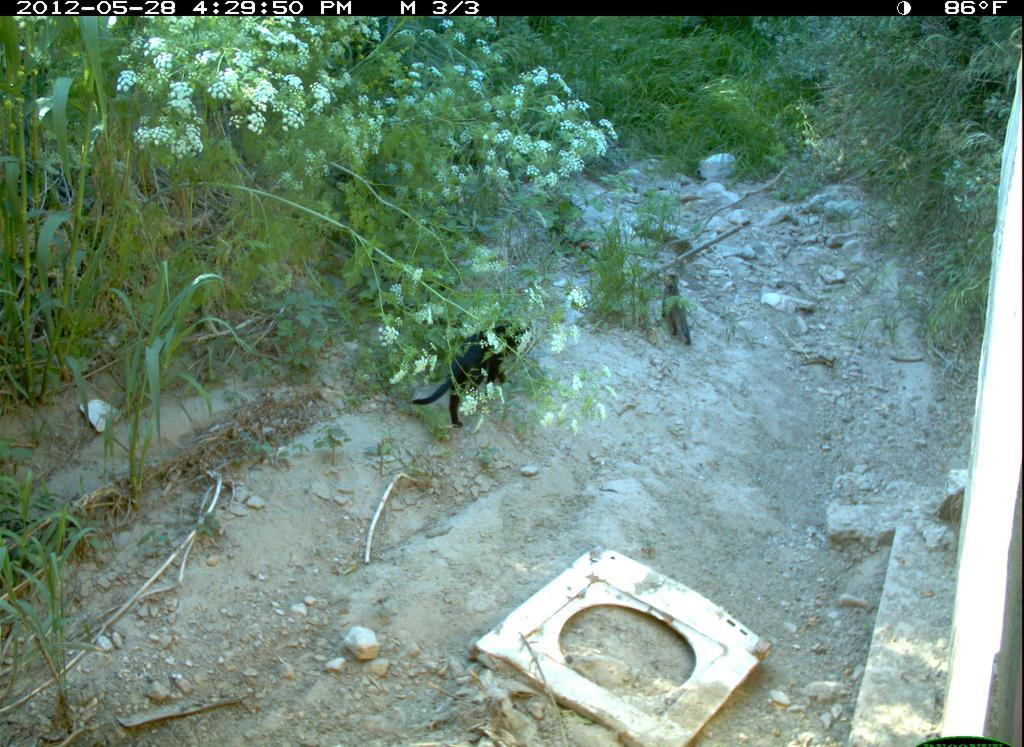cat: (407, 319, 535, 432)
